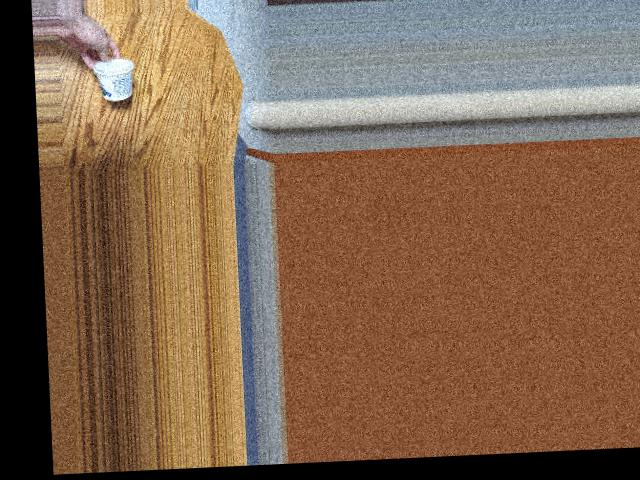cotage: (93, 54, 127, 98)
